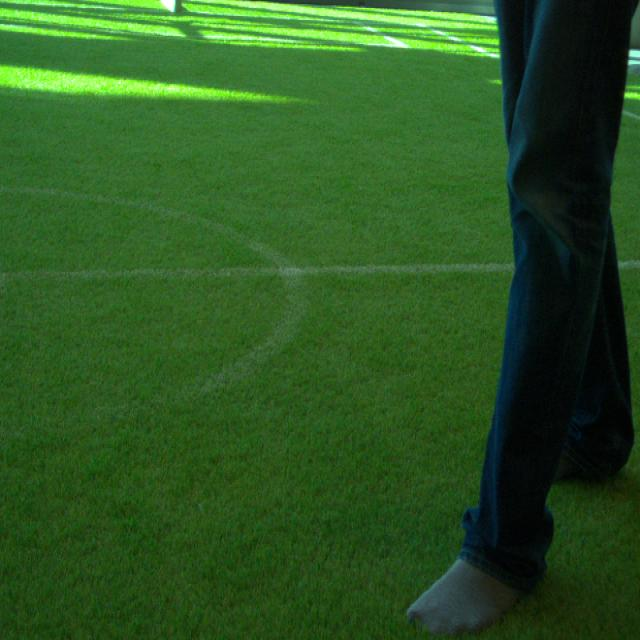goalpost: (168, 0, 178, 12)
